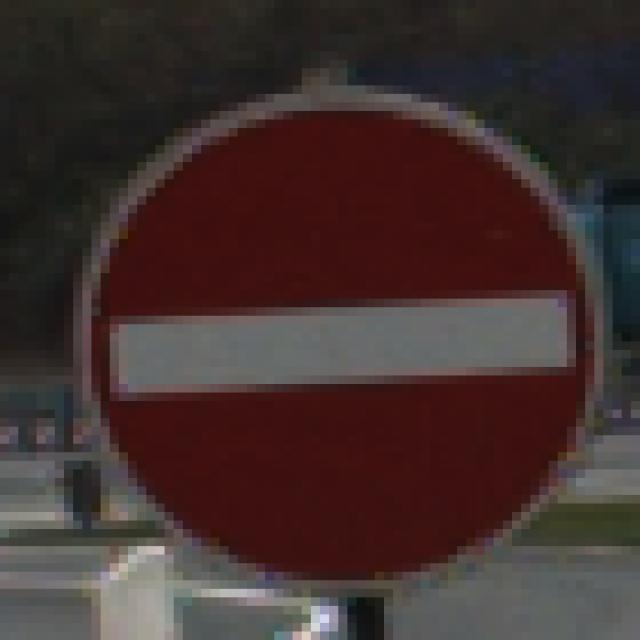No Entry: (56, 52, 586, 590)
